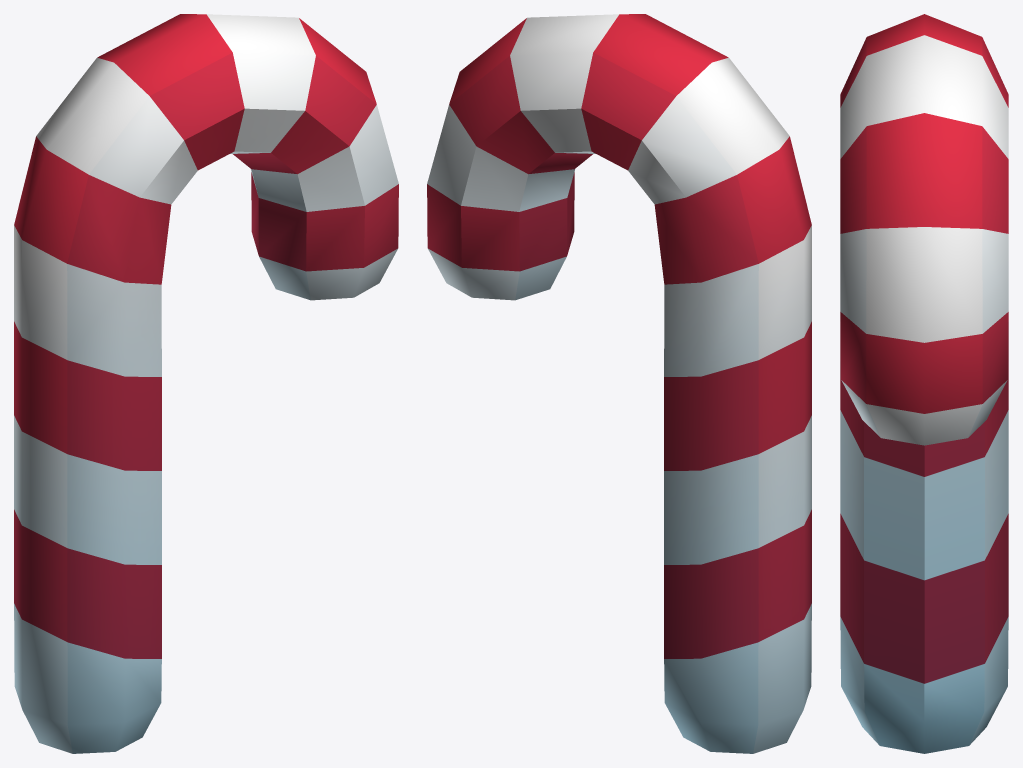
The model's file is candycane_small.obj.
3 renders of one model, left to right at view 1: azimuth 30°, elevation 25°; view 2: azimuth 150°, elevation 25°; view 3: azimuth 270°, elevation 25°, orthographic. The views are drawn at different scales.
Parts seen in each view (by area): view 1: candycane_small; view 2: candycane_small; view 3: candycane_small.
Boxes of the visible parts, <box> form: candycane_small: <box>14,14,398,753</box>; candycane_small: <box>427,14,811,753</box>; candycane_small: <box>840,14,1008,753</box>.
Bounding box in the file's own units: 0.3199 × 0.5843 × 0.1149.
Materials: 1 (1 with a texture image).
